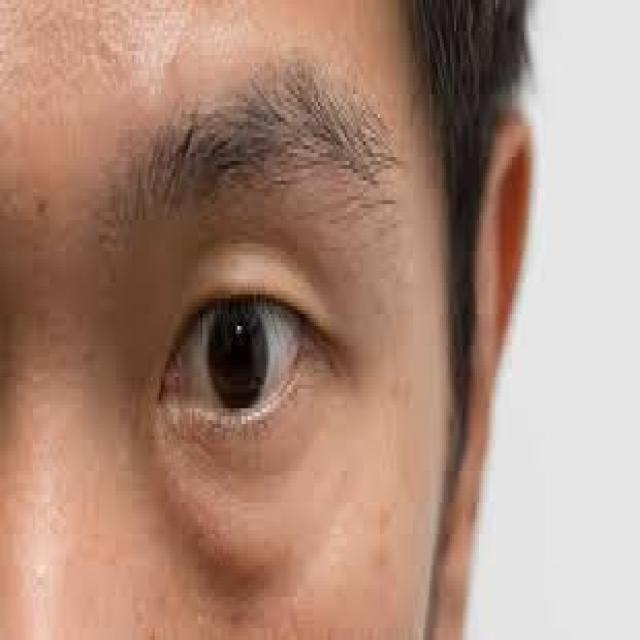Eyebags: (167, 476, 297, 566)
